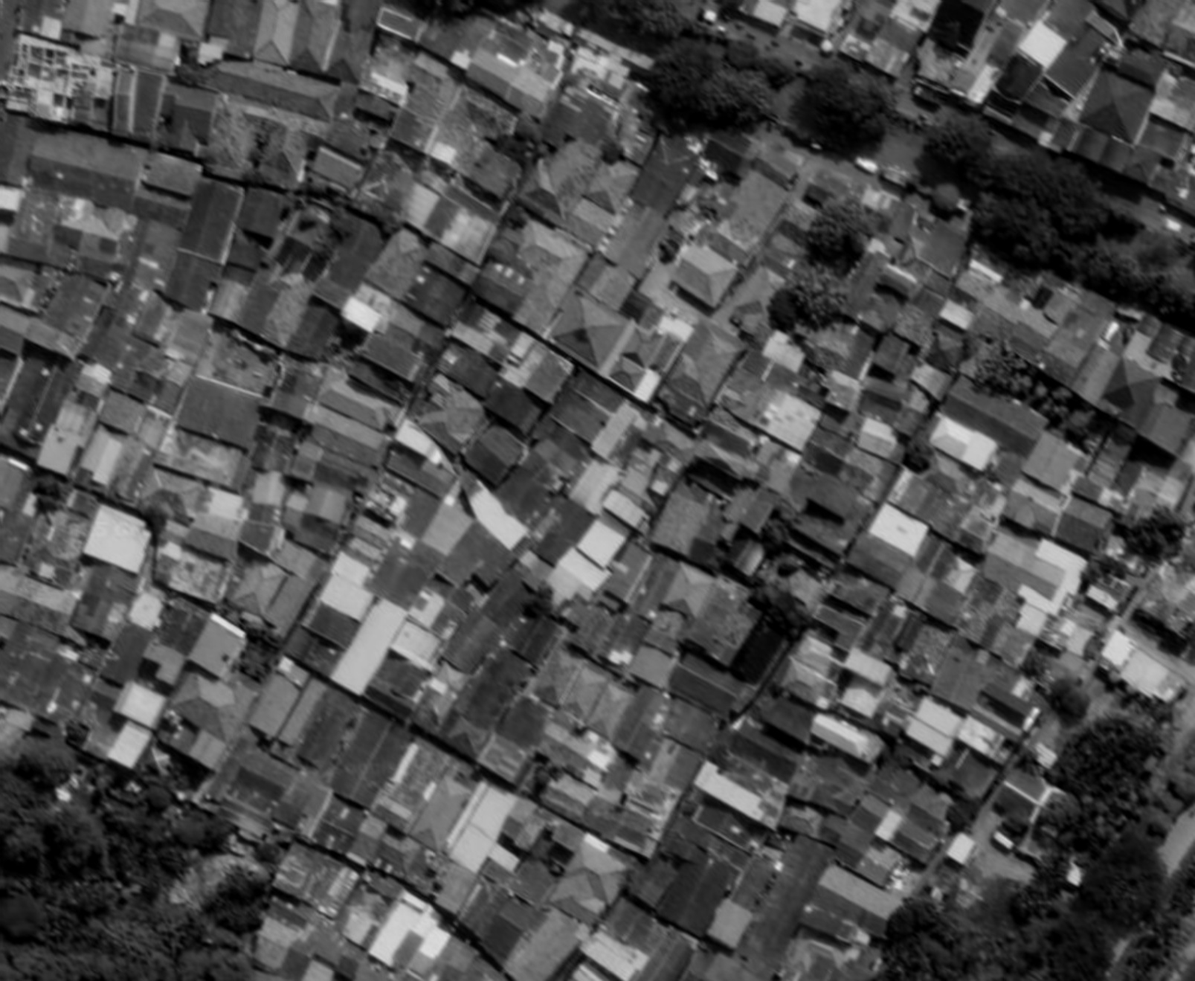building: (1010, 0, 1194, 216), (345, 734, 520, 913), (704, 818, 833, 981), (824, 756, 965, 904), (561, 714, 701, 862), (981, 0, 1122, 144), (407, 0, 573, 122), (1066, 31, 1195, 183), (543, 279, 686, 407), (196, 732, 338, 859), (898, 0, 1054, 114), (1073, 35, 1195, 174), (511, 123, 641, 250), (730, 830, 835, 981), (357, 578, 469, 719), (1029, 284, 1146, 409), (714, 342, 837, 459), (442, 298, 575, 406), (480, 216, 591, 339), (430, 638, 536, 766), (230, 255, 350, 368), (198, 92, 327, 197), (0, 610, 105, 736), (0, 28, 120, 137), (5, 184, 137, 281), (150, 659, 258, 774), (159, 174, 246, 316), (19, 119, 147, 214), (392, 164, 508, 268), (437, 564, 540, 681), (902, 453, 1014, 558), (767, 460, 876, 567), (1089, 354, 1195, 463), (793, 859, 902, 964), (574, 891, 701, 981), (658, 787, 770, 888), (886, 529, 992, 635), (524, 643, 638, 741), (649, 317, 747, 431), (935, 366, 1049, 463), (972, 526, 1085, 622), (199, 48, 341, 123), (542, 363, 645, 463), (512, 125, 610, 229), (688, 741, 797, 834), (31, 363, 116, 480), (447, 872, 545, 971), (80, 669, 172, 774), (702, 165, 793, 270), (322, 706, 412, 812), (1087, 625, 1187, 718), (544, 832, 636, 932), (830, 0, 940, 83), (326, 593, 412, 698), (362, 888, 458, 981), (678, 572, 768, 671), (22, 263, 110, 364), (890, 200, 981, 295), (838, 0, 942, 82), (0, 346, 76, 458), (342, 147, 434, 239), (457, 41, 560, 123), (652, 843, 739, 940), (1037, 11, 1126, 104), (308, 214, 390, 314), (402, 369, 493, 459), (644, 477, 733, 569), (287, 0, 382, 85), (438, 776, 519, 875), (497, 899, 591, 981), (967, 282, 1061, 364), (112, 217, 180, 329), (268, 839, 360, 921), (172, 371, 266, 451), (384, 63, 462, 159), (544, 287, 631, 373), (1075, 61, 1161, 147), (428, 518, 512, 604), (689, 758, 785, 833), (295, 399, 392, 473), (626, 128, 704, 220), (1125, 553, 1195, 655), (64, 556, 142, 647), (289, 684, 366, 776), (15, 499, 93, 588), (153, 423, 252, 493), (564, 595, 650, 675), (311, 364, 404, 437), (784, 742, 871, 820), (663, 648, 752, 724), (597, 195, 675, 281), (489, 449, 570, 531), (1117, 310, 1195, 394), (661, 235, 742, 314), (493, 330, 575, 407), (74, 306, 154, 384), (922, 636, 998, 717), (156, 503, 246, 571), (530, 718, 616, 789), (719, 715, 806, 784), (146, 539, 234, 607), (606, 681, 677, 765), (454, 477, 531, 553), (0, 564, 80, 637), (362, 223, 435, 303), (1126, 430, 1194, 515), (519, 420, 595, 496), (79, 502, 157, 576), (102, 62, 168, 145), (950, 576, 1020, 654), (457, 416, 530, 490), (985, 759, 1058, 833), (260, 349, 329, 427), (289, 476, 354, 558), (526, 495, 596, 571), (1116, 0, 1194, 68), (854, 594, 924, 669), (725, 615, 794, 691), (724, 260, 787, 343), (363, 889, 428, 969), (365, 540, 436, 613), (751, 384, 824, 455), (181, 610, 251, 684), (249, 896, 312, 978), (922, 412, 1002, 476), (539, 543, 610, 615), (355, 319, 431, 386), (804, 707, 886, 768), (735, 428, 806, 498), (398, 262, 470, 331), (996, 473, 1069, 541), (155, 81, 219, 158), (1017, 428, 1087, 498), (603, 790, 672, 861), (404, 659, 468, 735), (241, 668, 304, 745), (841, 528, 915, 593), (0, 0, 62, 77), (1048, 492, 1117, 561), (597, 100, 664, 171), (919, 0, 999, 59), (120, 215, 182, 291), (458, 141, 527, 209), (695, 117, 764, 185), (201, 97, 259, 177), (433, 337, 504, 402), (467, 252, 535, 319), (477, 374, 547, 439), (448, 82, 519, 146), (380, 443, 457, 501), (256, 568, 317, 641), (577, 920, 650, 981), (711, 363, 778, 429), (413, 491, 478, 559), (135, 463, 205, 526), (273, 675, 330, 752), (711, 363, 777, 429), (97, 615, 155, 690), (225, 552, 288, 621), (545, 383, 612, 447), (883, 465, 951, 528), (653, 693, 722, 755), (1065, 337, 1125, 408), (596, 538, 656, 609), (541, 86, 614, 144), (936, 742, 1001, 807), (146, 592, 210, 658), (502, 603, 566, 669), (834, 245, 888, 323), (619, 846, 681, 912), (972, 673, 1039, 734), (109, 21, 184, 75), (624, 550, 680, 622), (335, 508, 397, 572), (333, 882, 392, 949), (586, 396, 644, 464), (492, 690, 553, 754), (797, 466, 862, 526), (865, 500, 931, 559), (897, 619, 954, 687), (281, 620, 345, 680), (657, 560, 717, 624), (563, 451, 622, 516), (242, 911, 301, 976), (307, 794, 366, 858), (231, 182, 289, 247), (73, 424, 130, 490), (201, 0, 262, 61), (299, 593, 362, 652), (825, 565, 889, 623), (753, 690, 818, 747), (136, 147, 203, 202), (107, 343, 167, 404), (105, 436, 158, 505), (494, 794, 552, 857), (573, 509, 632, 570), (179, 507, 243, 563), (775, 657, 840, 712), (565, 42, 632, 95), (804, 598, 867, 654), (1032, 328, 1090, 388), (905, 35, 965, 93), (387, 616, 448, 673), (536, 768, 597, 825), (161, 304, 215, 368), (249, 0, 300, 67), (303, 926, 365, 981), (304, 142, 367, 196), (310, 448, 378, 498), (127, 179, 192, 231), (559, 192, 617, 250), (503, 852, 561, 910), (989, 47, 1045, 107), (748, 136, 808, 192), (868, 679, 922, 741), (700, 894, 756, 953), (356, 476, 414, 532), (689, 436, 755, 485), (390, 416, 453, 467), (843, 529, 901, 584), (127, 289, 181, 348), (318, 110, 378, 163), (316, 570, 375, 623), (777, 937, 849, 980), (710, 480, 759, 543), (851, 283, 905, 339), (950, 499, 1002, 557), (135, 0, 208, 41), (419, 239, 480, 288), (584, 258, 638, 313), (798, 424, 853, 478), (897, 714, 955, 765), (850, 412, 908, 463), (1082, 432, 1132, 491), (430, 936, 497, 980), (885, 300, 939, 354), (414, 10, 467, 64), (623, 640, 678, 692), (103, 717, 154, 773), (1080, 567, 1135, 618), (953, 712, 1008, 762), (537, 771, 589, 823), (93, 388, 146, 439), (148, 356, 194, 414), (616, 441, 662, 499), (918, 325, 970, 376), (834, 443, 886, 494), (235, 511, 288, 561), (795, 162, 849, 211), (135, 639, 187, 689), (394, 487, 442, 541), (815, 367, 866, 417), (864, 331, 912, 384), (597, 485, 650, 533), (987, 619, 1037, 669), (790, 629, 842, 677), (773, 194, 821, 246), (873, 194, 921, 246), (758, 327, 810, 375), (301, 480, 352, 528), (683, 951, 767, 980), (911, 694, 965, 739), (371, 2, 426, 46), (840, 645, 895, 689), (735, 485, 780, 538), (0, 114, 33, 185), (947, 264, 996, 311), (129, 403, 175, 453), (335, 292, 385, 338), (643, 603, 689, 653), (223, 227, 269, 276), (903, 358, 953, 403), (381, 301, 430, 346), (260, 382, 312, 424), (124, 586, 169, 634), (270, 536, 318, 581), (1036, 280, 1081, 327), (580, 784, 623, 833), (348, 88, 399, 129), (836, 676, 883, 720), (611, 464, 658, 508), (618, 286, 665, 330), (62, 0, 115, 39), (652, 421, 700, 464), (960, 61, 1003, 109), (808, 322, 850, 371), (406, 50, 453, 93), (873, 259, 921, 301), (776, 800, 825, 840), (792, 0, 846, 36), (509, 546, 552, 590), (1107, 452, 1148, 498), (72, 357, 114, 400), (201, 485, 248, 523), (247, 466, 288, 509), (729, 536, 769, 580), (0, 508, 31, 564), (860, 376, 909, 411), (0, 454, 30, 509), (0, 262, 35, 308), (1011, 599, 1051, 639), (76, 21, 117, 60), (61, 484, 102, 523), (738, 0, 789, 31), (735, 345, 776, 383), (935, 296, 977, 333), (272, 945, 314, 981), (0, 304, 28, 354), (426, 137, 461, 169), (900, 384, 933, 417), (326, 612, 359, 644), (352, 957, 395, 980), (1172, 351, 1194, 393), (1037, 0, 1081, 19), (305, 601, 332, 628), (1099, 316, 1122, 344), (472, 810, 489, 835), (484, 826, 502, 843), (668, 743, 683, 763), (485, 765, 504, 777), (713, 405, 729, 419), (448, 123, 464, 136), (161, 550, 179, 560), (719, 422, 746, 428), (512, 737, 531, 745), (486, 763, 496, 774)
tree: (976, 127, 1133, 256), (1036, 686, 1167, 818), (52, 909, 245, 975), (1062, 241, 1195, 333), (1075, 823, 1175, 930), (793, 57, 903, 154), (869, 887, 978, 981), (700, 27, 797, 132), (962, 190, 1066, 283), (963, 335, 1060, 432), (1119, 871, 1195, 981), (639, 36, 722, 134), (778, 256, 861, 335), (107, 821, 190, 898), (192, 857, 271, 937), (916, 111, 996, 189), (1017, 914, 1110, 981), (802, 196, 880, 275), (37, 805, 116, 883), (1133, 763, 1195, 849), (0, 884, 62, 966), (1009, 846, 1074, 924), (591, 0, 689, 51), (5, 775, 51, 880), (135, 763, 193, 823), (753, 518, 806, 583), (304, 203, 355, 268), (1131, 514, 1183, 569), (14, 734, 72, 782), (1050, 797, 1104, 848), (175, 813, 231, 861), (753, 582, 807, 627), (1044, 667, 1092, 714), (1077, 546, 1129, 582), (61, 880, 119, 912), (32, 473, 73, 509), (240, 640, 275, 677), (519, 580, 550, 615), (1015, 745, 1044, 773), (928, 766, 958, 791), (951, 797, 976, 826), (905, 433, 925, 469)
